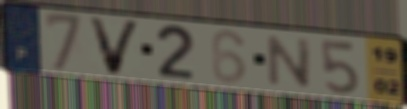2: (154, 21, 203, 86)
5: (318, 36, 364, 96)
6: (208, 28, 253, 87)
7: (41, 10, 85, 74)
N: (265, 34, 314, 90)
V: (85, 15, 145, 77)
